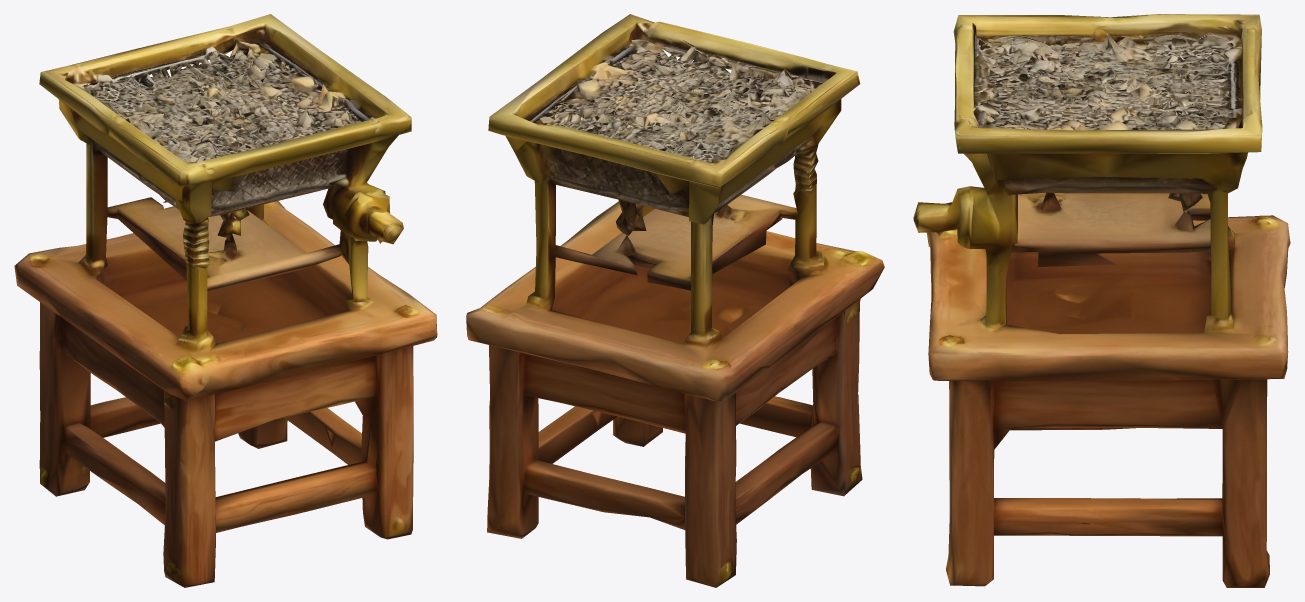
File: sieve.glb
The picture shows the model from 3 angles, left to right: view 1: azimuth 30°, elevation 25°; view 2: azimuth 150°, elevation 25°; view 3: azimuth 270°, elevation 25°; orthographic projection. The views are drawn at different scales.
Parts seen in each view (by area): view 1: tripo_node_e07cb202-5abe-45b4-affa-ebb576148fbf; view 2: tripo_node_e07cb202-5abe-45b4-affa-ebb576148fbf; view 3: tripo_node_e07cb202-5abe-45b4-affa-ebb576148fbf.
Part boxes in pixels (<box>): tripo_node_e07cb202-5abe-45b4-affa-ebb576148fbf: <box>14,14,437,587</box>; tripo_node_e07cb202-5abe-45b4-affa-ebb576148fbf: <box>466,14,884,587</box>; tripo_node_e07cb202-5abe-45b4-affa-ebb576148fbf: <box>913,14,1290,587</box>.
Bounding box in the file's own units: 0.6619 × 1 × 0.7533.
Materials: 1 (1 with a texture image).
